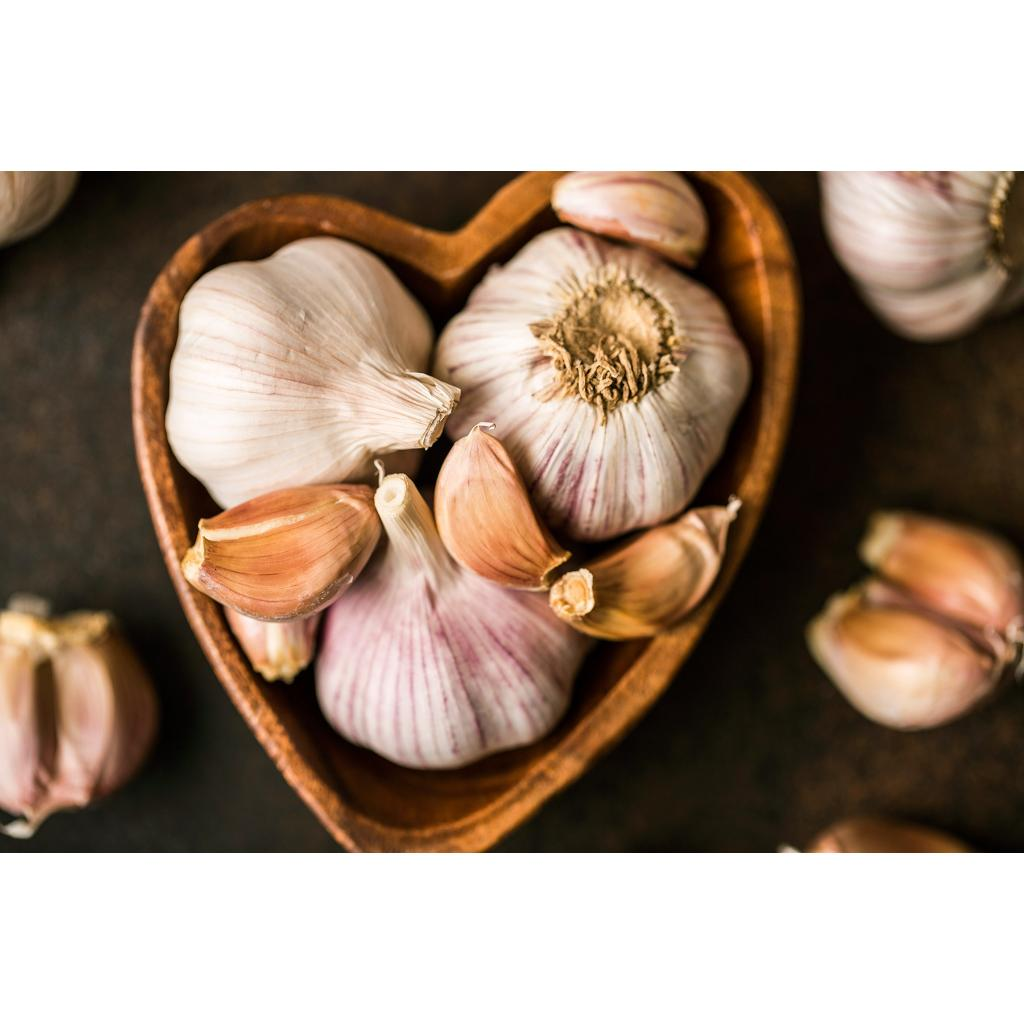garlic: (433, 227, 749, 540), (315, 474, 591, 768), (166, 236, 459, 508), (806, 511, 1023, 730), (0, 594, 157, 838), (819, 171, 1023, 341), (806, 586, 1000, 730), (549, 495, 741, 639), (181, 484, 380, 622), (434, 422, 569, 590), (551, 171, 707, 267)
